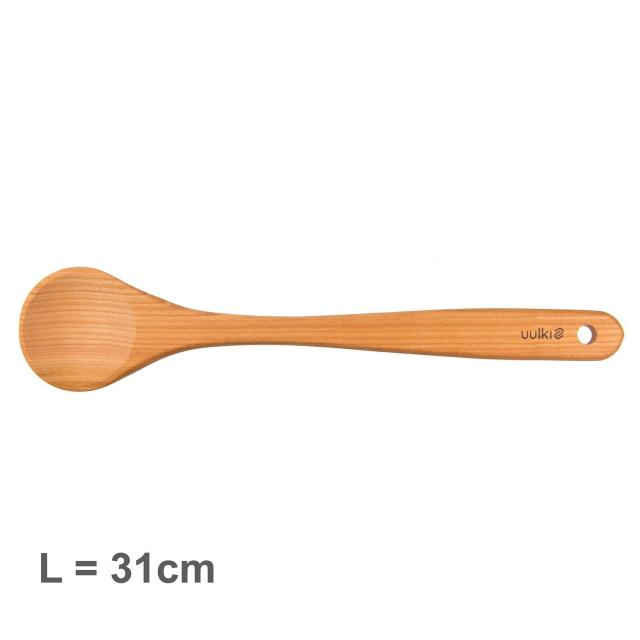spoon: (1, 229, 636, 408)
